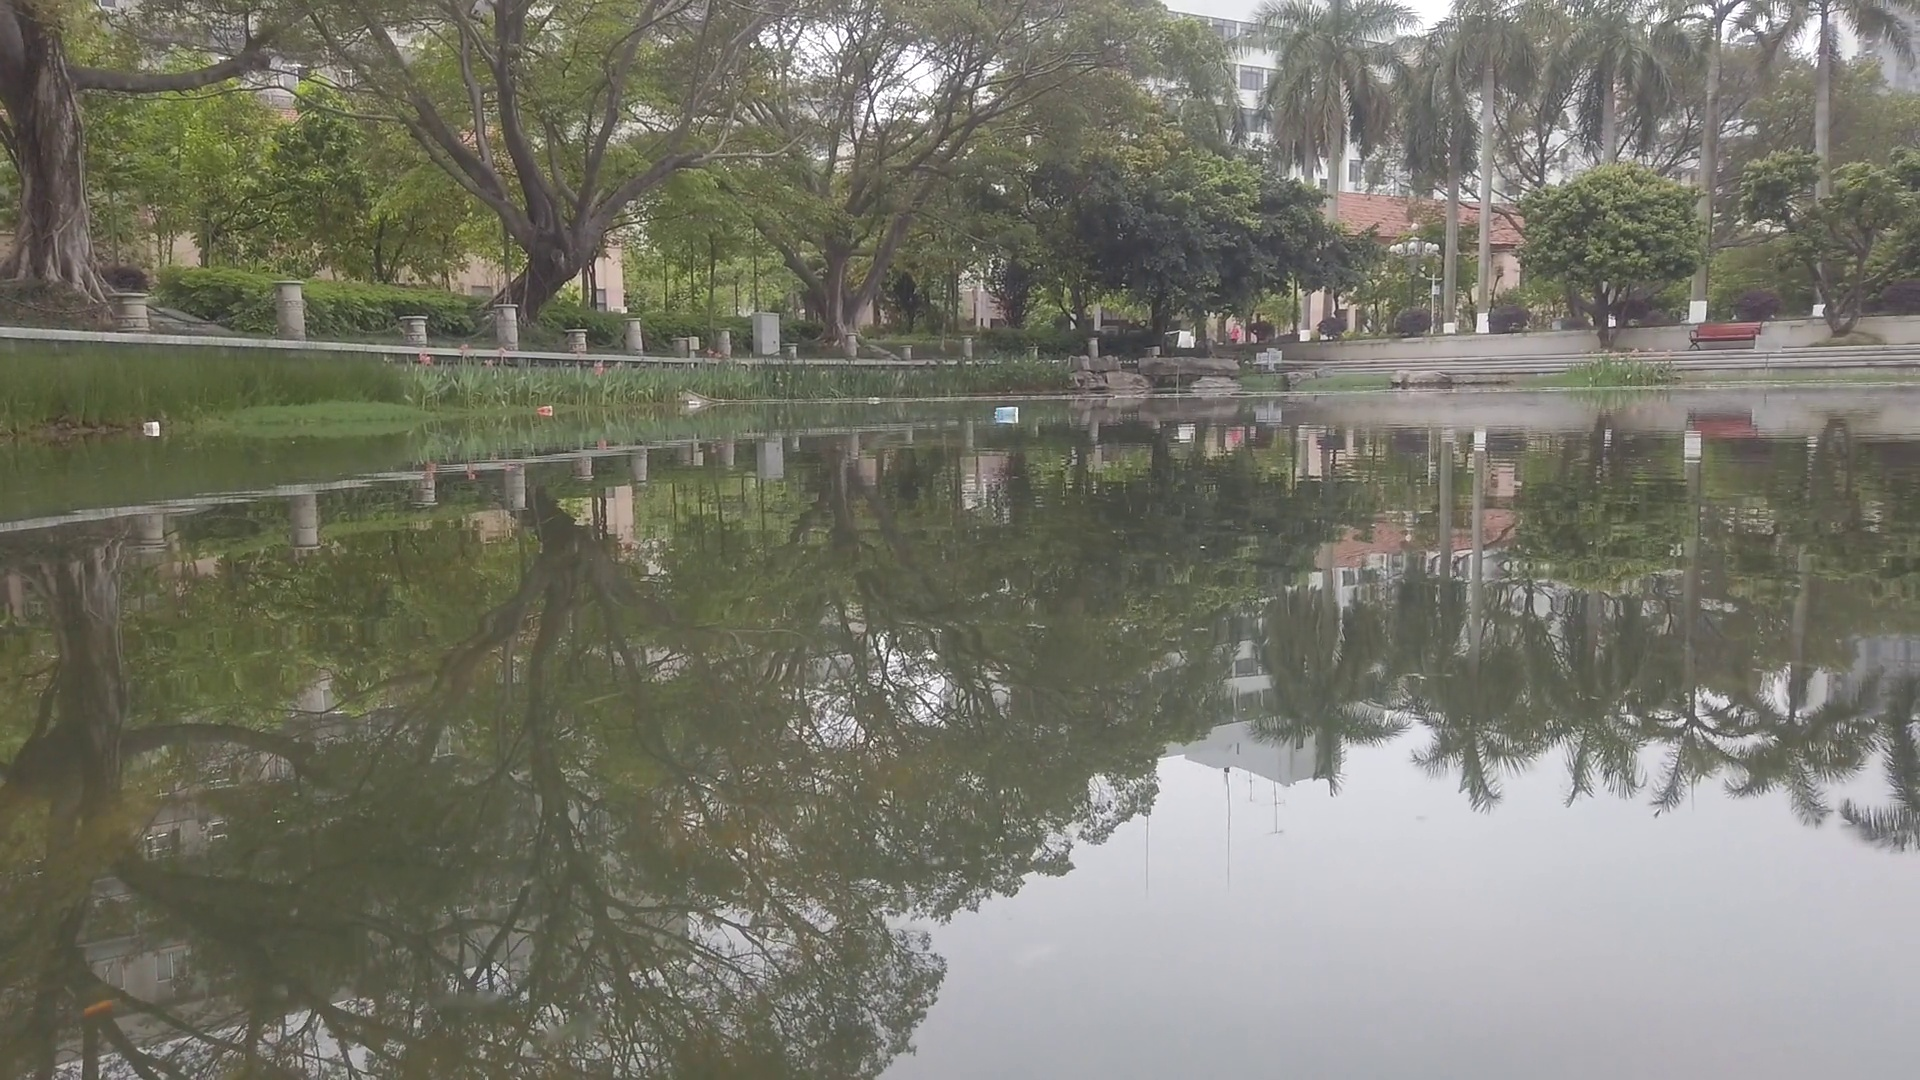bottle: (537, 405, 553, 417), (868, 396, 882, 405), (687, 401, 702, 407)
carton: (996, 407, 1019, 421), (142, 422, 160, 436)
